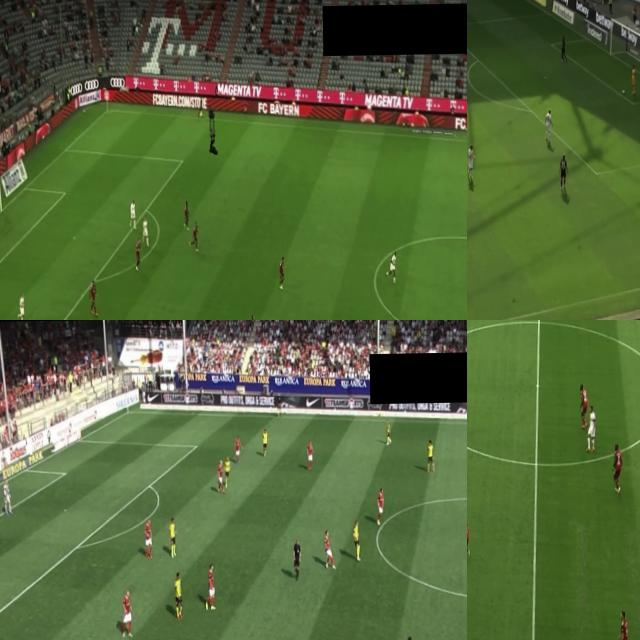ball: (620, 84, 626, 95)
player: (120, 586, 134, 638), (578, 380, 590, 432), (204, 560, 216, 610), (585, 404, 597, 452), (612, 441, 623, 493), (172, 569, 183, 615), (324, 526, 336, 568), (166, 514, 178, 556), (142, 516, 155, 552), (2, 474, 12, 518), (88, 278, 99, 316), (375, 486, 386, 524), (352, 516, 361, 560), (542, 106, 552, 144), (15, 286, 26, 320), (128, 194, 138, 228), (426, 436, 436, 470), (558, 156, 566, 198), (276, 251, 284, 292), (388, 246, 397, 282), (190, 219, 200, 251), (260, 423, 270, 454), (467, 144, 475, 182), (630, 61, 638, 98), (559, 30, 567, 66), (222, 452, 230, 488), (617, 608, 626, 640), (216, 457, 224, 492), (305, 437, 314, 468), (181, 197, 190, 227), (232, 430, 241, 460), (142, 216, 150, 247), (134, 236, 140, 272), (385, 418, 391, 446)
